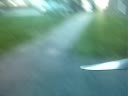window: (0, 1, 49, 96), (63, 62, 93, 96), (59, 27, 82, 40), (115, 71, 128, 90)
